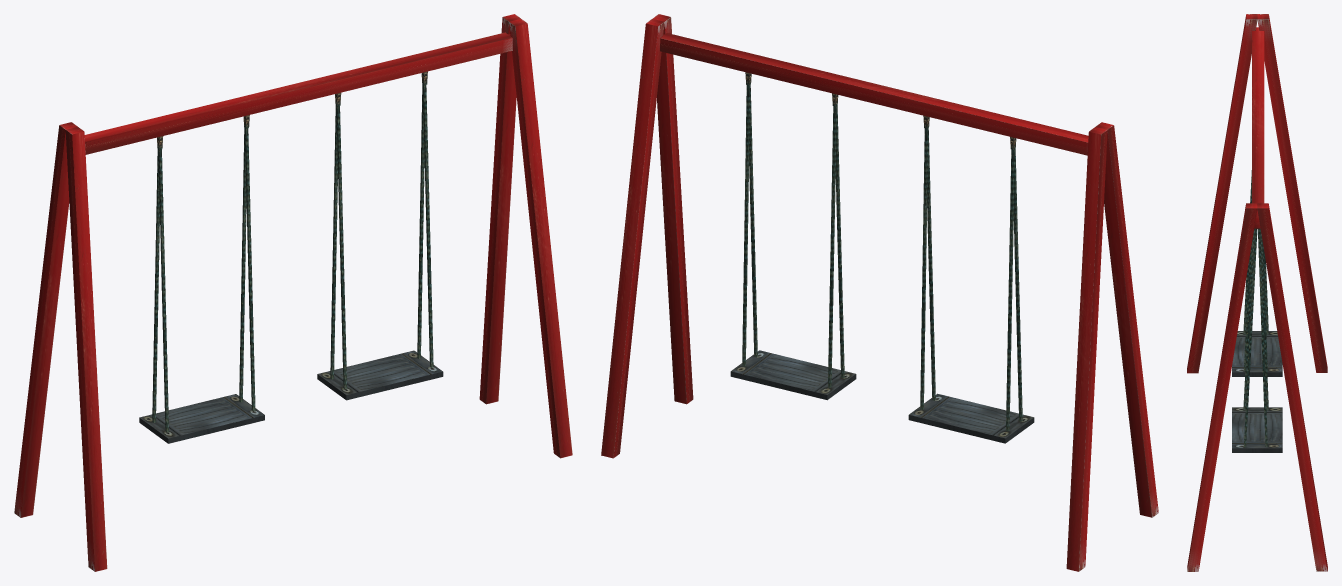
The model's file is swings_2_lod.FBX.
The picture shows the model from 3 angles, left to right: view 1: azimuth 30°, elevation 25°; view 2: azimuth 150°, elevation 25°; view 3: azimuth 270°, elevation 25°; orthographic projection. The views are drawn at different scales.
Parts seen in each view (by area): view 1: Box007; view 2: Box007; view 3: Box007.
Boxes of the visible parts, bbox=[...] form: Box007: bbox=[14, 14, 572, 571]; Box007: bbox=[601, 14, 1158, 571]; Box007: bbox=[1187, 14, 1327, 571].
Bounding box in the file's own units: 148 × 121 × 43.1.
